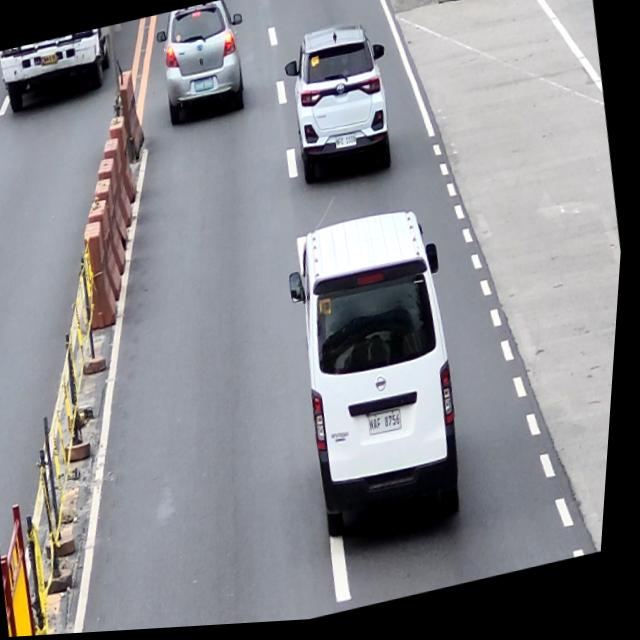Car: (270, 204, 491, 547), (275, 21, 408, 197), (148, 0, 260, 133)
License-Plate: (372, 413, 409, 443), (336, 136, 360, 154), (194, 79, 216, 95)
